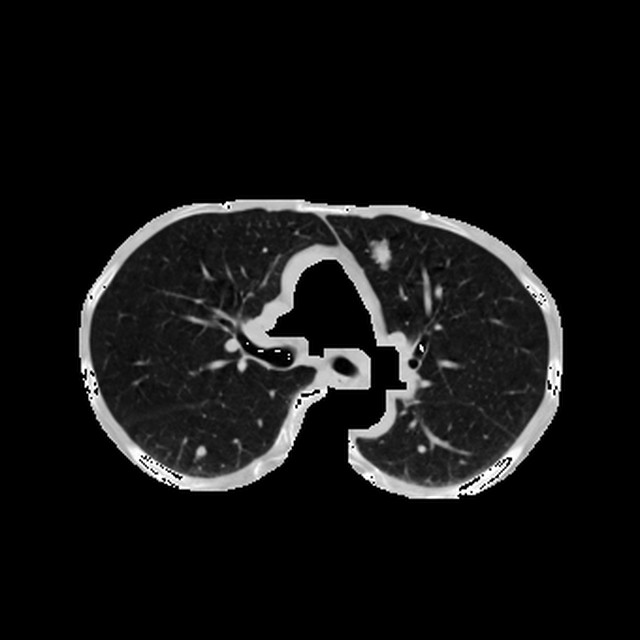PN: (192, 444, 207, 459)
